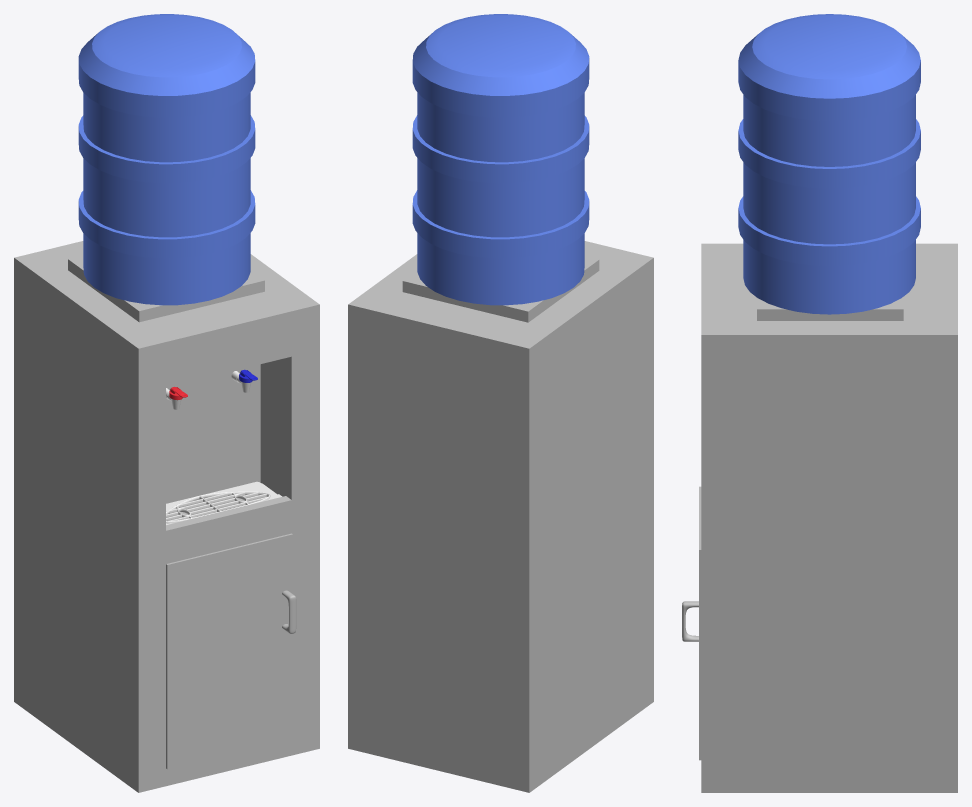
Rendered from dispensador de agua.fbx.
3 renders of one model, left to right at view 1: azimuth 30°, elevation 25°; view 2: azimuth 150°, elevation 25°; view 3: azimuth 270°, elevation 25°, orthographic. The views are drawn at different scales.
Visible parts, largest first — view 1: Cube; view 2: Cube; view 3: Cube.
Part boxes in pixels (x1,y1,x2,y2): Cube: [14, 14, 319, 792]; Cube: [348, 14, 653, 792]; Cube: [682, 14, 957, 792].
Bounding box in the file's own units: 50 × 180 × 63.88.
